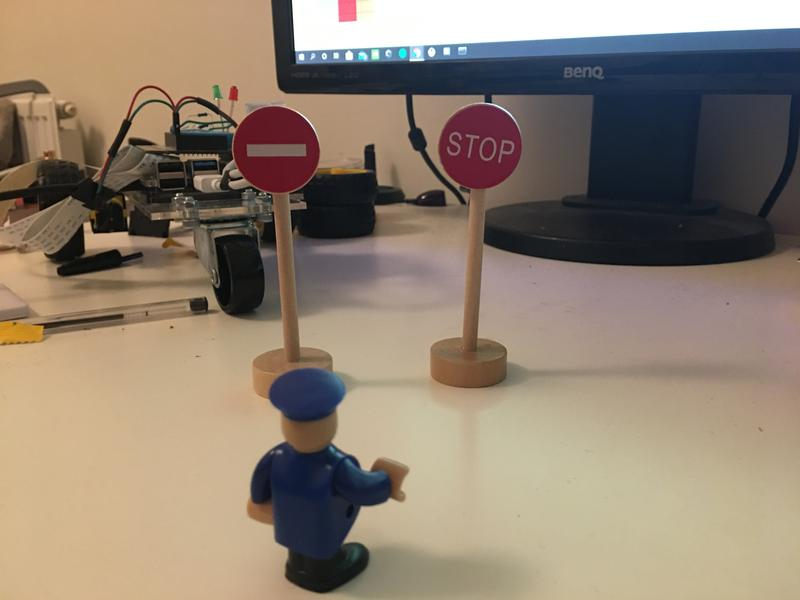Traffic_Sign_No_Entry: (232, 111, 320, 194)
Traffic_Sign_Stop: (439, 106, 522, 187)
person: (246, 367, 411, 594)
